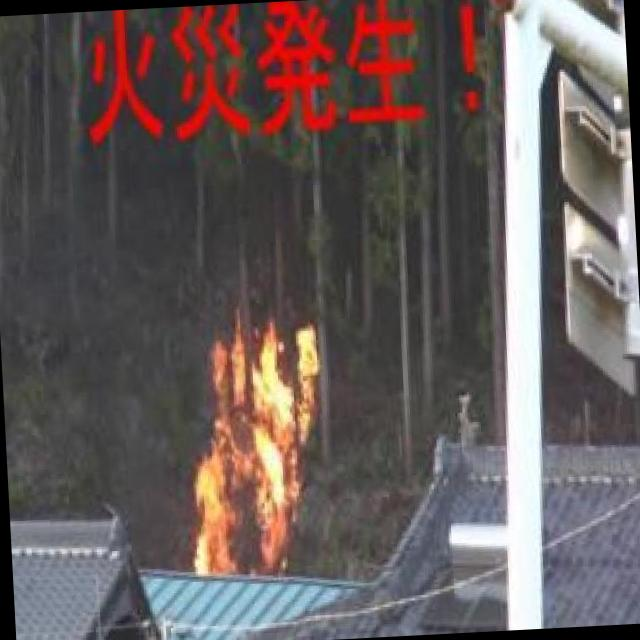Fire: (172, 320, 344, 590)
